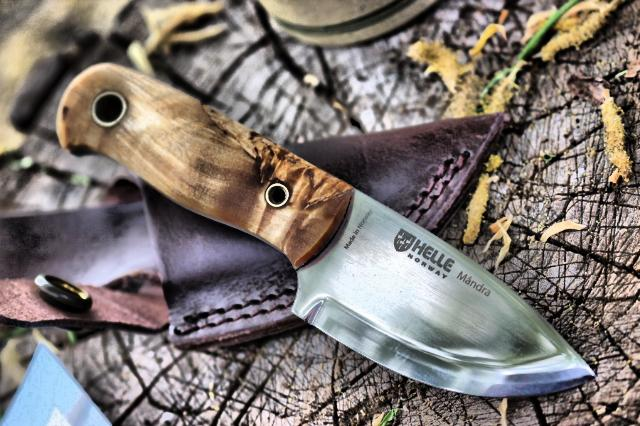knife: (278, 178, 612, 402)
